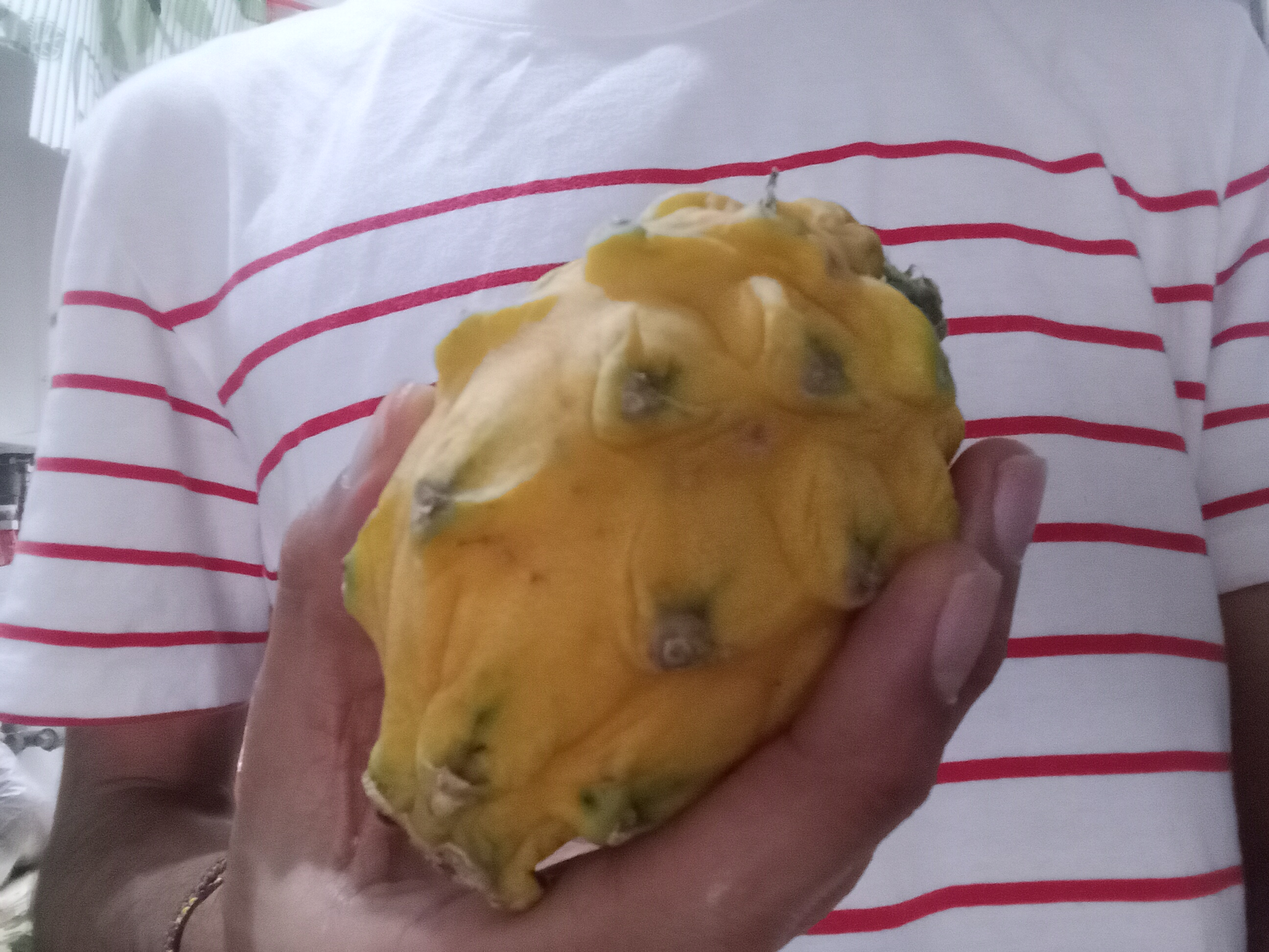Organico: (341, 177, 964, 910)
